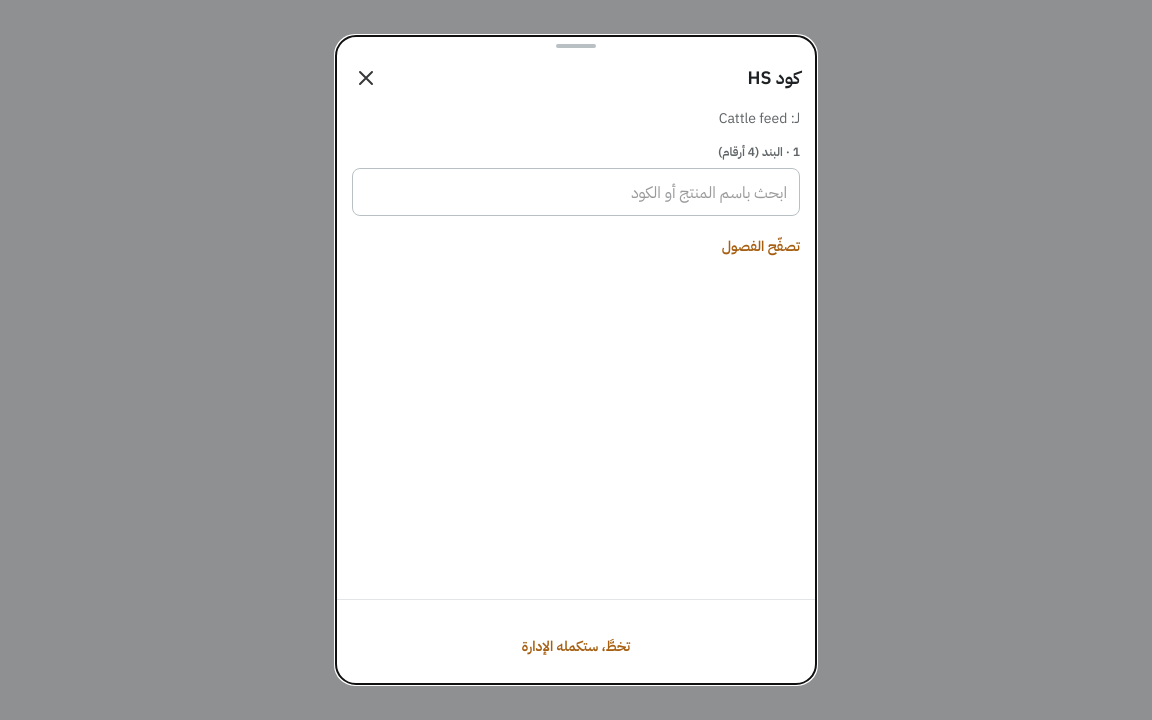
it: HsPicker › shows the Arabic heading name in AR
The image size is (1152, 720).
In the search field: (576, 192) [352,168,800,216], type "2309"
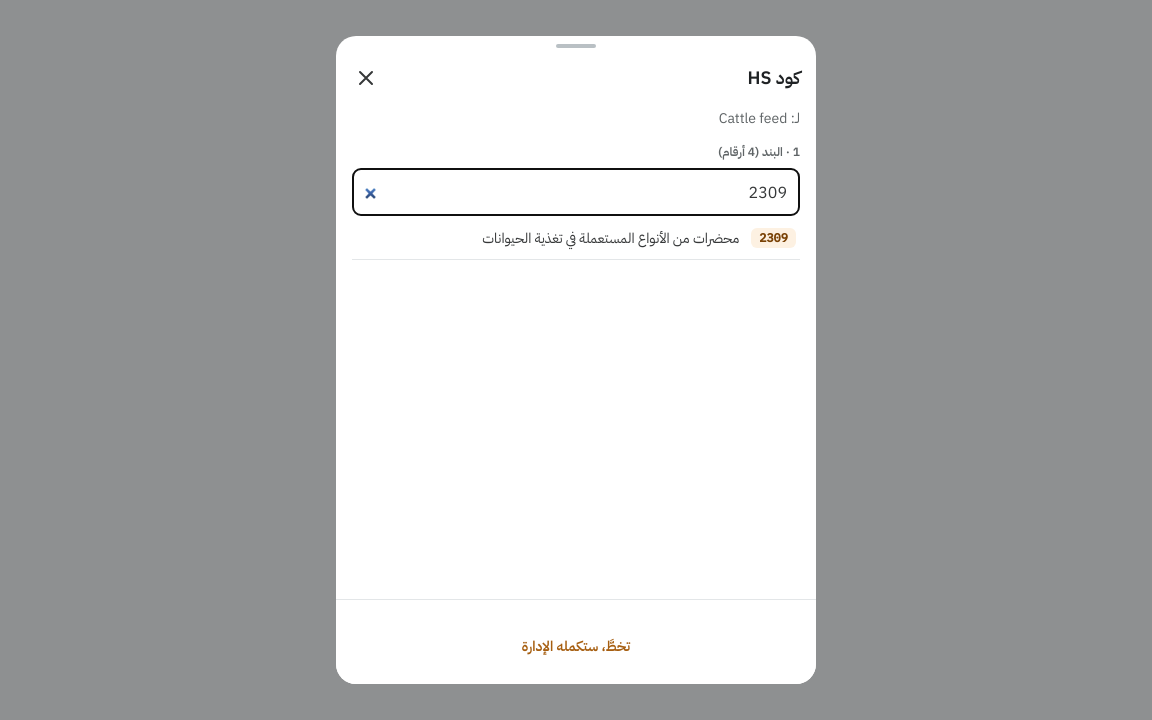
Expected: the text "محضرات من الأنواع المستعملة في تغذية الحيوانات" is shown, [482,228,739,248]
